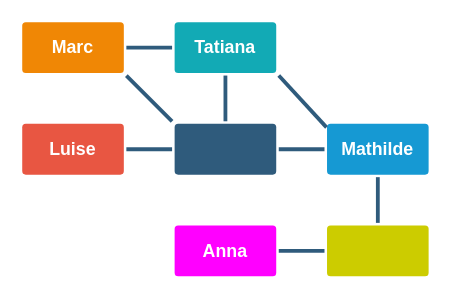
Image size: 450x297. Some labels were removed from this diagram. The centre of each missing label's shape, as x and y in pixels:
"Arthur" goes at (377,250).
"Elliot" goes at (225,148).
